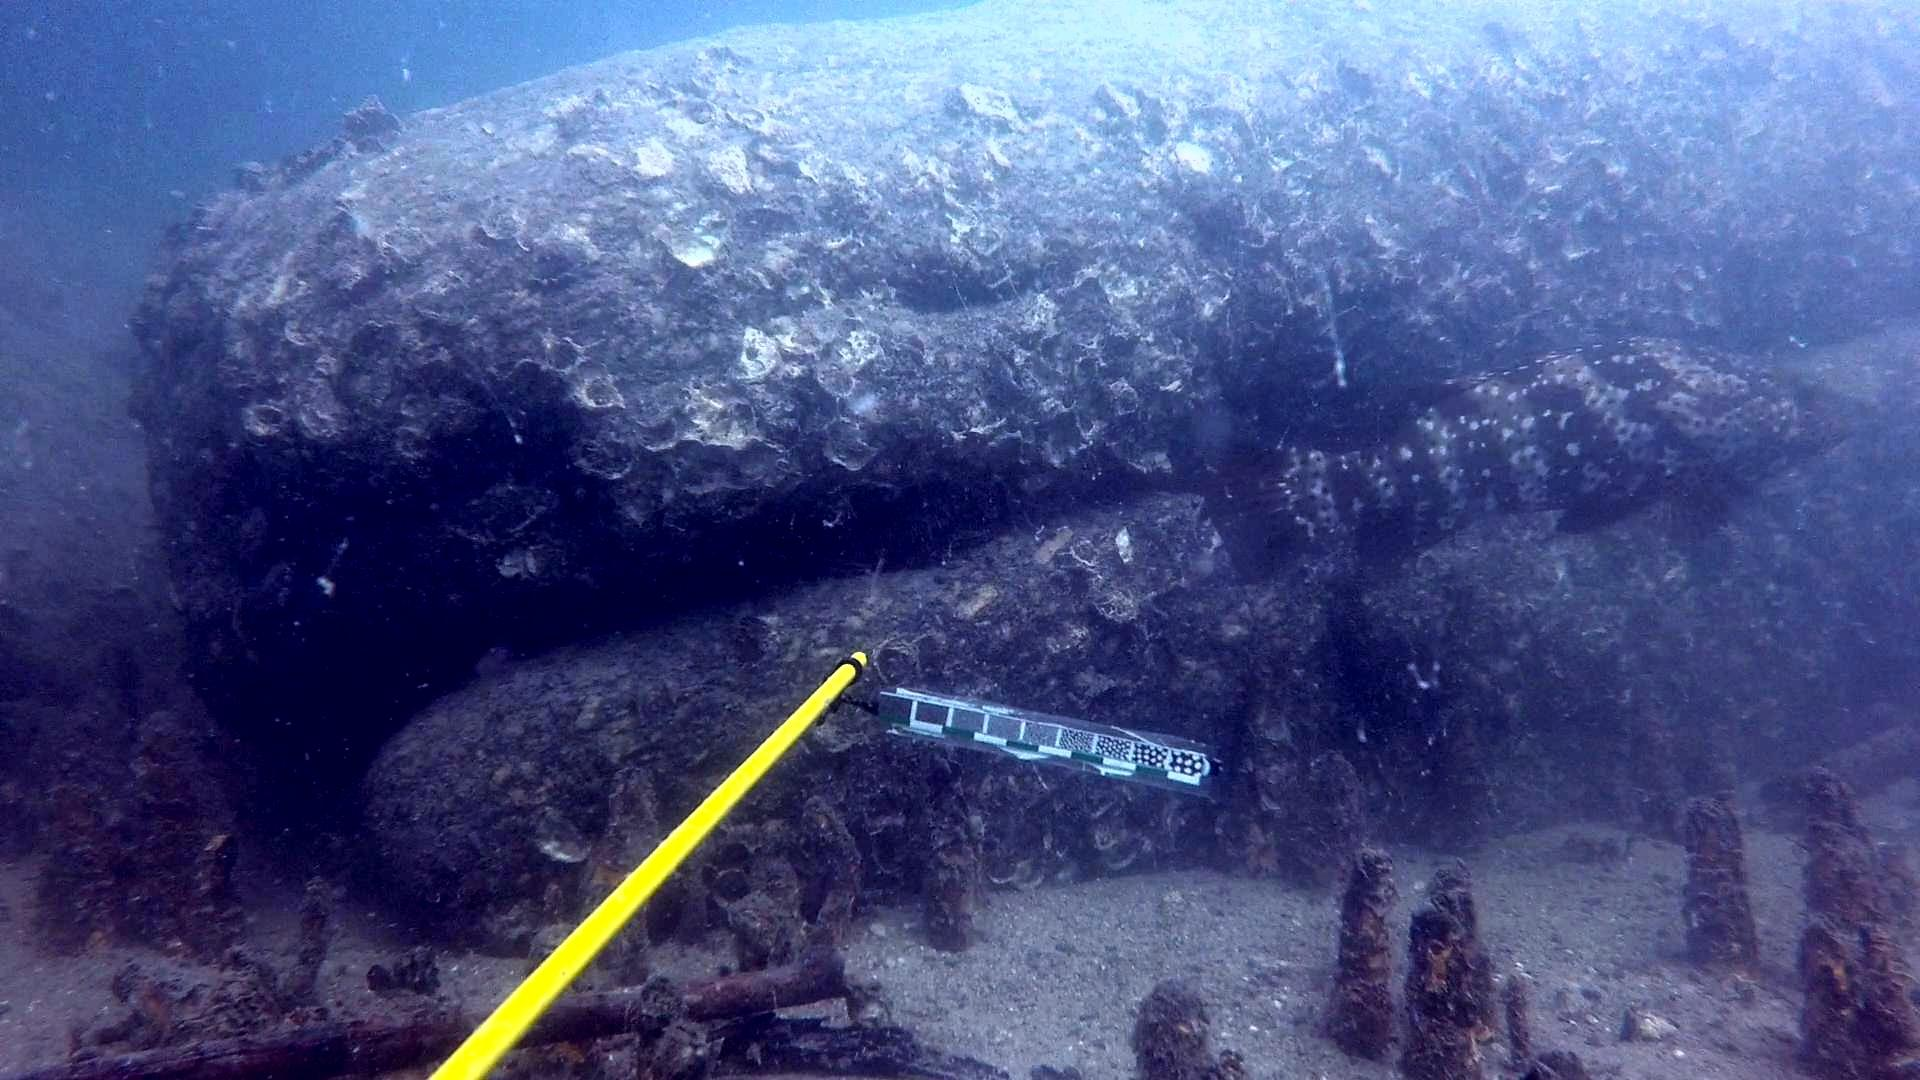epinephelus: (1191, 323, 1867, 599)
